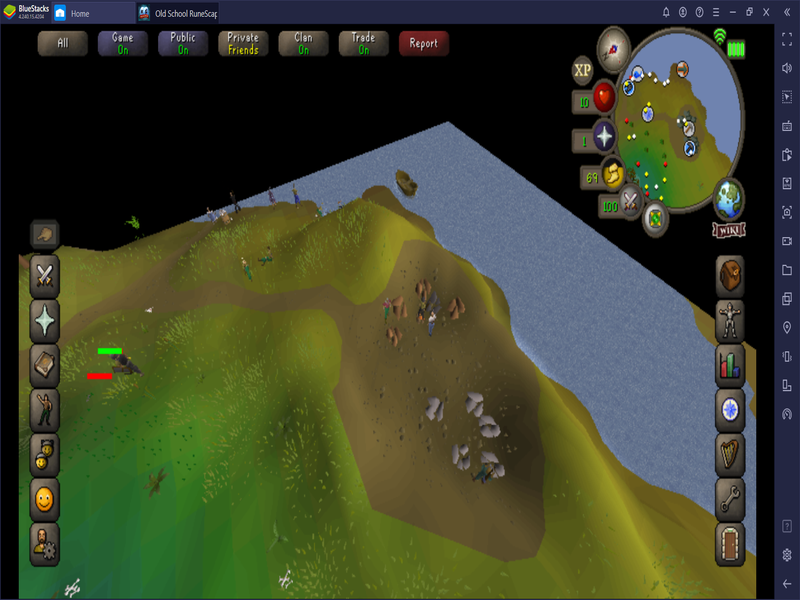copper_rock_1: (385, 324, 405, 348)
copper_rock_2: (388, 295, 411, 321)
